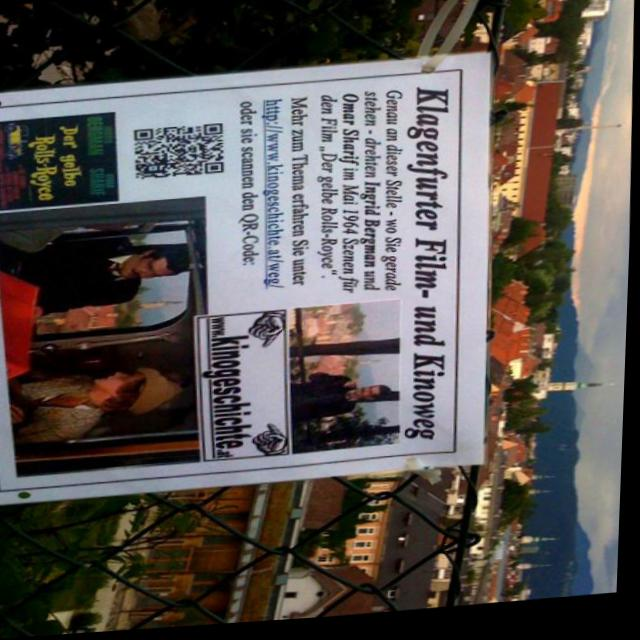qrcode: (134, 126, 226, 182)
